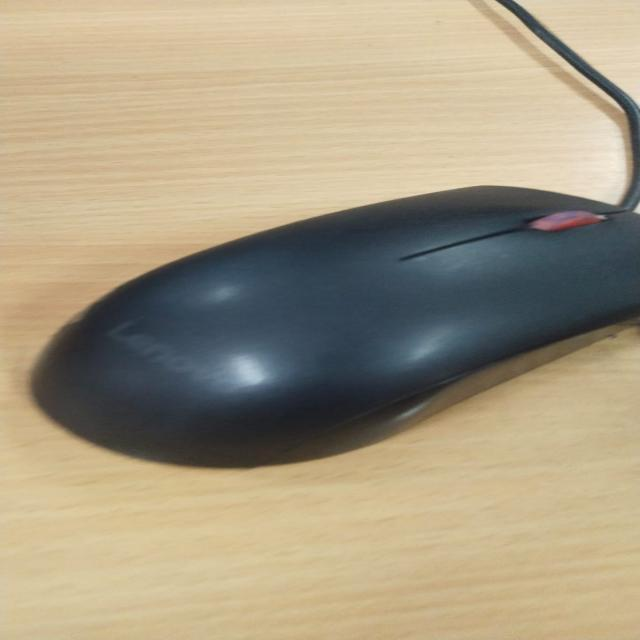Mouse: (103, 38, 639, 640)
